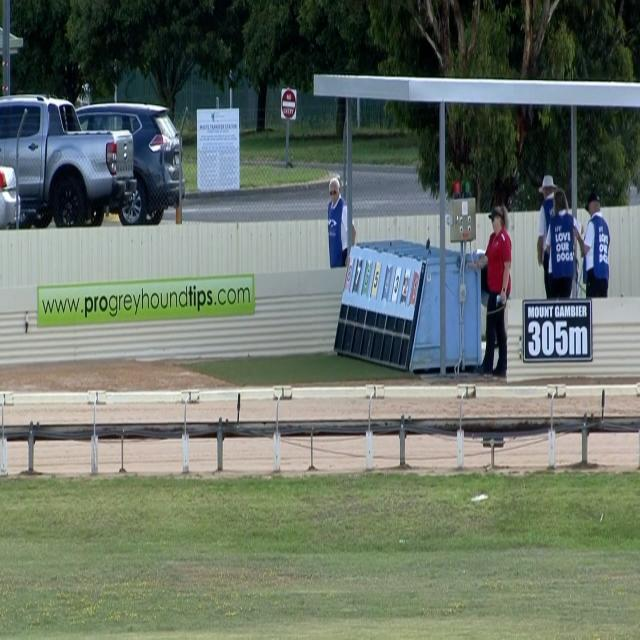rail: (0, 417, 640, 442)
